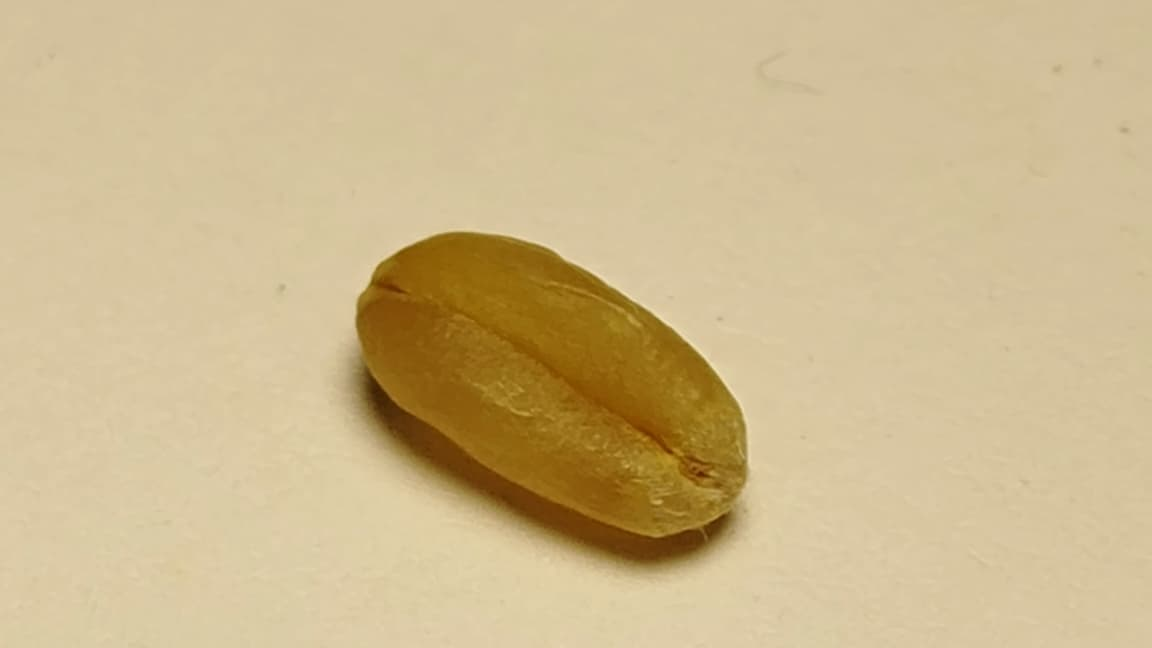healthy: (357, 233, 744, 535)
